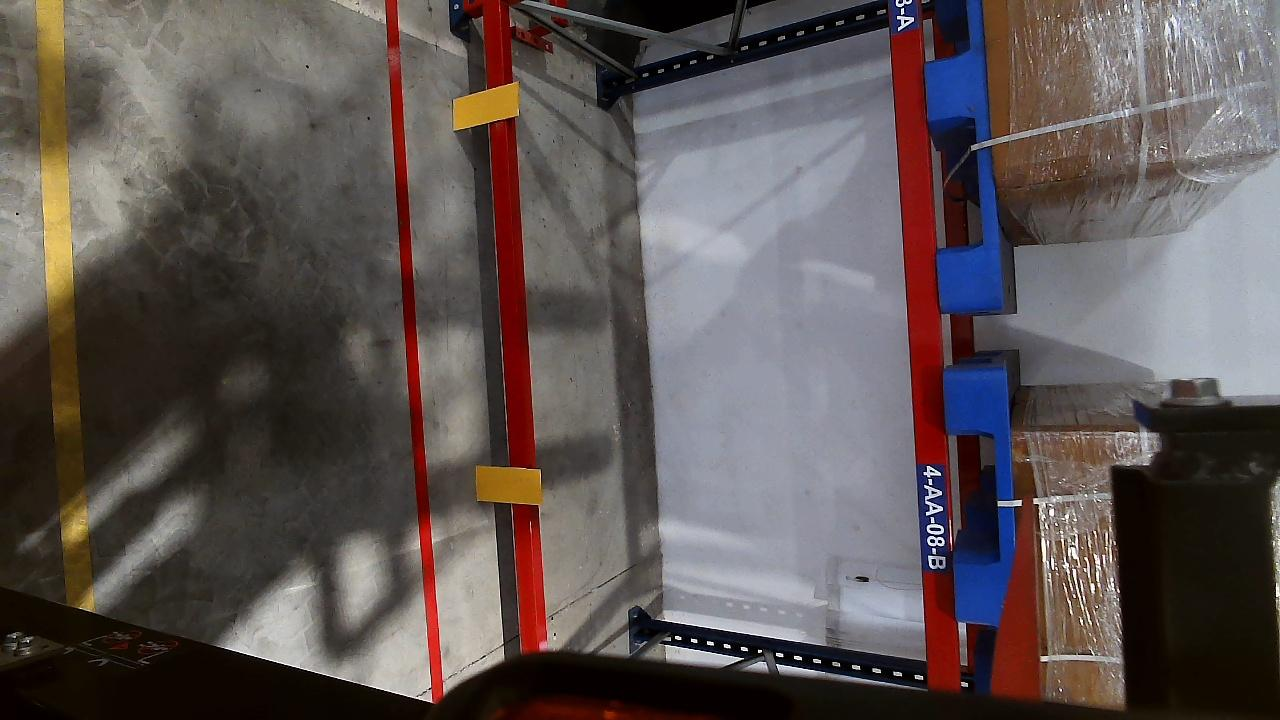h_rack: (878, 0, 955, 683), (477, 1, 544, 648)
orange_strip: (452, 82, 520, 128), (474, 466, 540, 505)
red_line: (382, 7, 443, 692)
small_pallet: (914, 0, 1008, 307), (943, 363, 1024, 689)
yellow_line: (28, 0, 106, 605)
